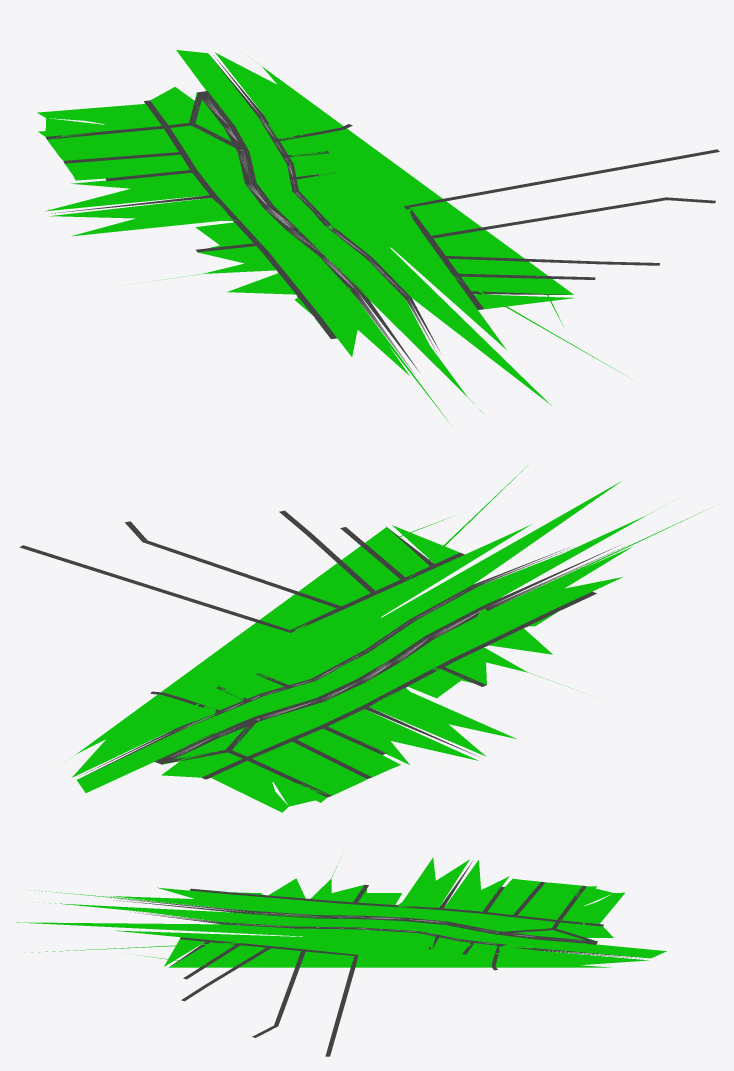
3 views of the same model, one above another, from view 1: azimuth 30°, elevation 25°; view 2: azimuth 150°, elevation 25°; view 3: azimuth 270°, elevation 25° (orthographic). The views are drawn at different scales.
Size of the model in its own units: 421 by 0.001 by 600.
